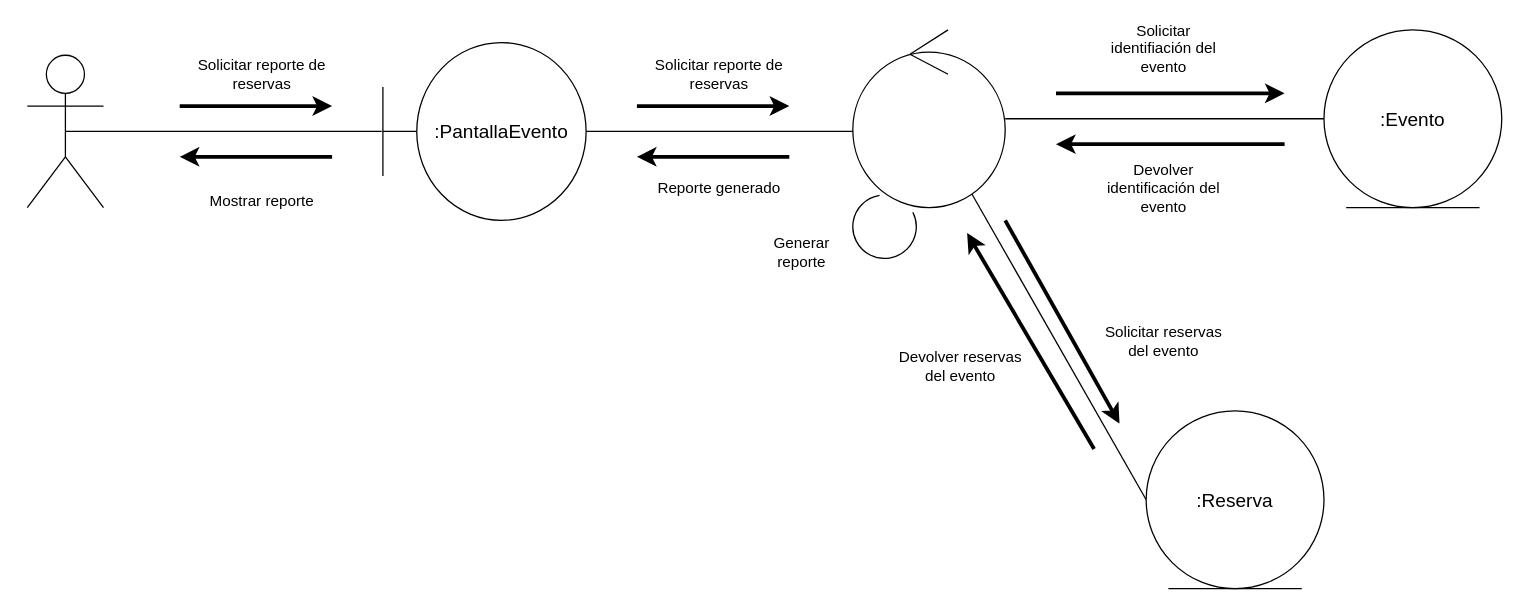
This 1524x611 diagram has some shape labels left out. Each missing label, with the centre of its shape:
:Generador Reporte: (x=928, y=118)
:Organizador: (x=65, y=131)
